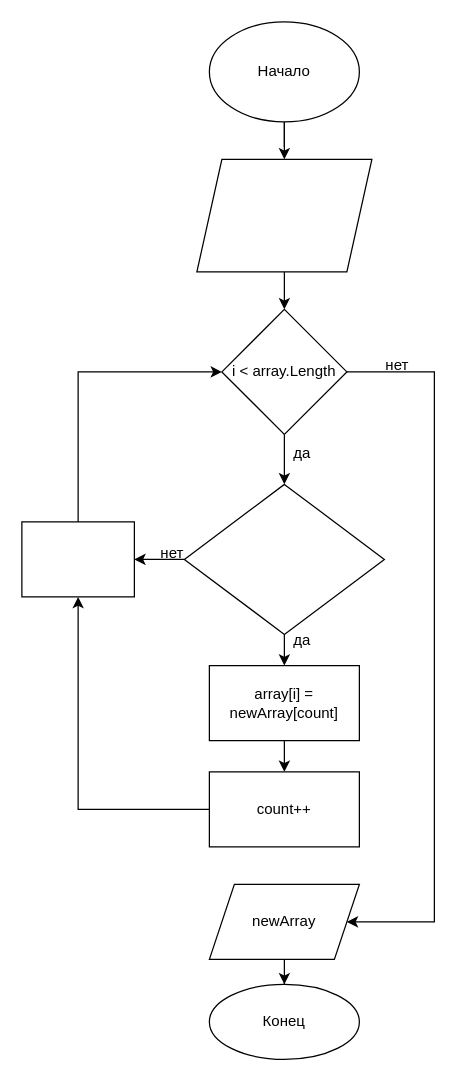
This 466x1081 diagram has some shape labels left out. Each missing label, with the box of its shape:
array[i].Length <= length: (183, 483, 384, 634)
i++: (21, 521, 134, 597)
string[] array; string[] newArray; i = 0; count = 0; length = 0;: (196, 158, 372, 272)
